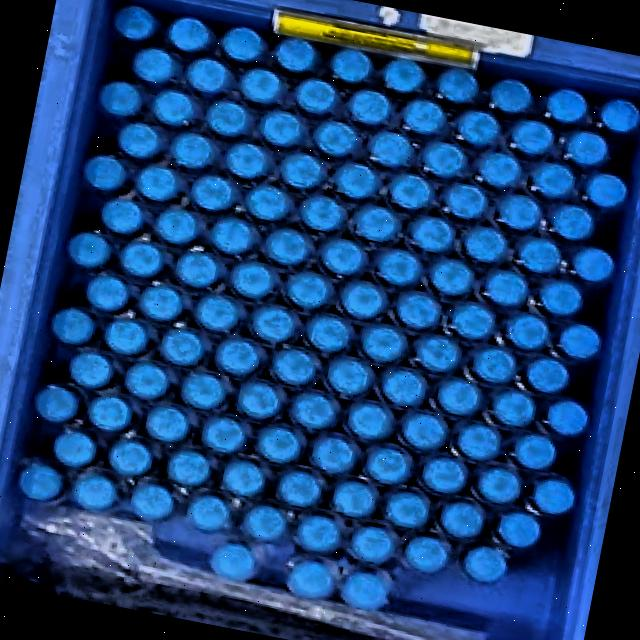vial: (286, 560, 335, 598), (341, 571, 388, 610), (18, 462, 63, 501), (34, 385, 80, 423), (51, 307, 96, 345), (311, 436, 356, 474), (108, 439, 153, 477), (296, 514, 341, 552), (73, 473, 118, 511), (211, 543, 256, 581), (421, 457, 467, 494), (351, 525, 394, 564), (231, 262, 275, 300), (332, 480, 376, 518), (210, 218, 255, 255), (340, 282, 385, 319), (361, 326, 406, 363), (125, 362, 170, 399), (347, 403, 392, 440), (402, 413, 447, 450), (512, 434, 557, 471), (476, 467, 521, 504), (439, 501, 484, 538), (130, 483, 175, 520), (220, 27, 266, 63), (279, 153, 325, 189), (258, 426, 301, 464), (101, 198, 145, 235), (321, 239, 365, 276), (484, 270, 528, 307), (120, 241, 164, 278), (161, 329, 205, 366), (366, 447, 410, 484), (53, 430, 97, 467), (167, 450, 211, 487), (222, 460, 266, 497), (385, 491, 429, 528), (463, 545, 507, 582), (187, 494, 231, 531), (113, 5, 158, 41), (168, 16, 213, 52), (186, 58, 231, 94), (170, 133, 215, 169), (334, 163, 379, 199), (354, 206, 399, 242), (246, 185, 291, 221), (538, 280, 583, 316), (396, 293, 441, 329), (139, 285, 184, 321), (195, 296, 240, 332), (327, 359, 372, 395), (69, 352, 114, 388), (456, 424, 501, 460), (88, 396, 133, 432), (566, 130, 609, 167), (430, 259, 473, 296), (287, 272, 330, 309), (472, 347, 515, 384), (292, 393, 335, 430), (532, 478, 575, 515), (405, 536, 448, 573), (382, 58, 426, 94), (531, 163, 575, 199), (422, 142, 466, 178), (314, 121, 358, 157), (206, 101, 250, 137), (152, 90, 196, 126), (99, 81, 143, 117), (118, 123, 162, 159), (225, 143, 269, 179), (551, 205, 595, 241), (571, 247, 615, 283), (301, 196, 345, 232), (136, 166, 180, 202), (83, 155, 127, 191), (155, 209, 199, 245), (176, 252, 220, 288), (67, 232, 111, 268), (307, 316, 351, 352), (526, 358, 570, 394), (216, 339, 260, 375), (105, 319, 149, 355), (182, 373, 226, 409), (202, 417, 246, 453), (146, 406, 190, 442), (133, 48, 178, 83), (191, 176, 236, 211), (417, 336, 459, 373), (493, 390, 535, 427), (330, 48, 373, 84), (295, 79, 338, 115), (403, 99, 446, 135), (478, 152, 521, 188), (370, 131, 413, 167), (260, 111, 303, 147), (389, 174, 432, 210), (498, 195, 541, 231), (518, 238, 561, 274), (464, 227, 507, 263), (411, 217, 454, 253), (378, 250, 421, 286), (558, 324, 601, 360), (506, 314, 549, 350), (451, 304, 494, 340), (86, 276, 129, 312), (253, 307, 296, 343), (546, 400, 589, 436), (437, 380, 480, 416), (383, 370, 426, 406), (273, 349, 316, 385), (238, 383, 281, 419), (278, 471, 321, 507), (497, 512, 540, 548), (244, 505, 287, 541), (348, 90, 392, 125), (266, 230, 310, 265), (437, 68, 479, 104), (240, 68, 282, 104), (585, 173, 627, 209), (445, 184, 487, 220), (275, 38, 318, 73), (599, 98, 640, 134), (546, 89, 588, 124), (457, 111, 499, 146), (512, 120, 554, 155), (490, 79, 531, 114)
